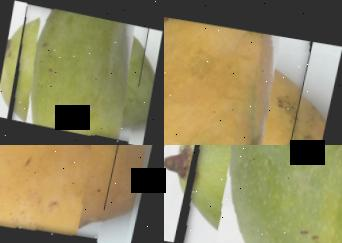Ripe: (164, 1, 314, 145), (0, 145, 137, 243)
Unripe: (6, 2, 150, 144), (171, 145, 342, 243)
